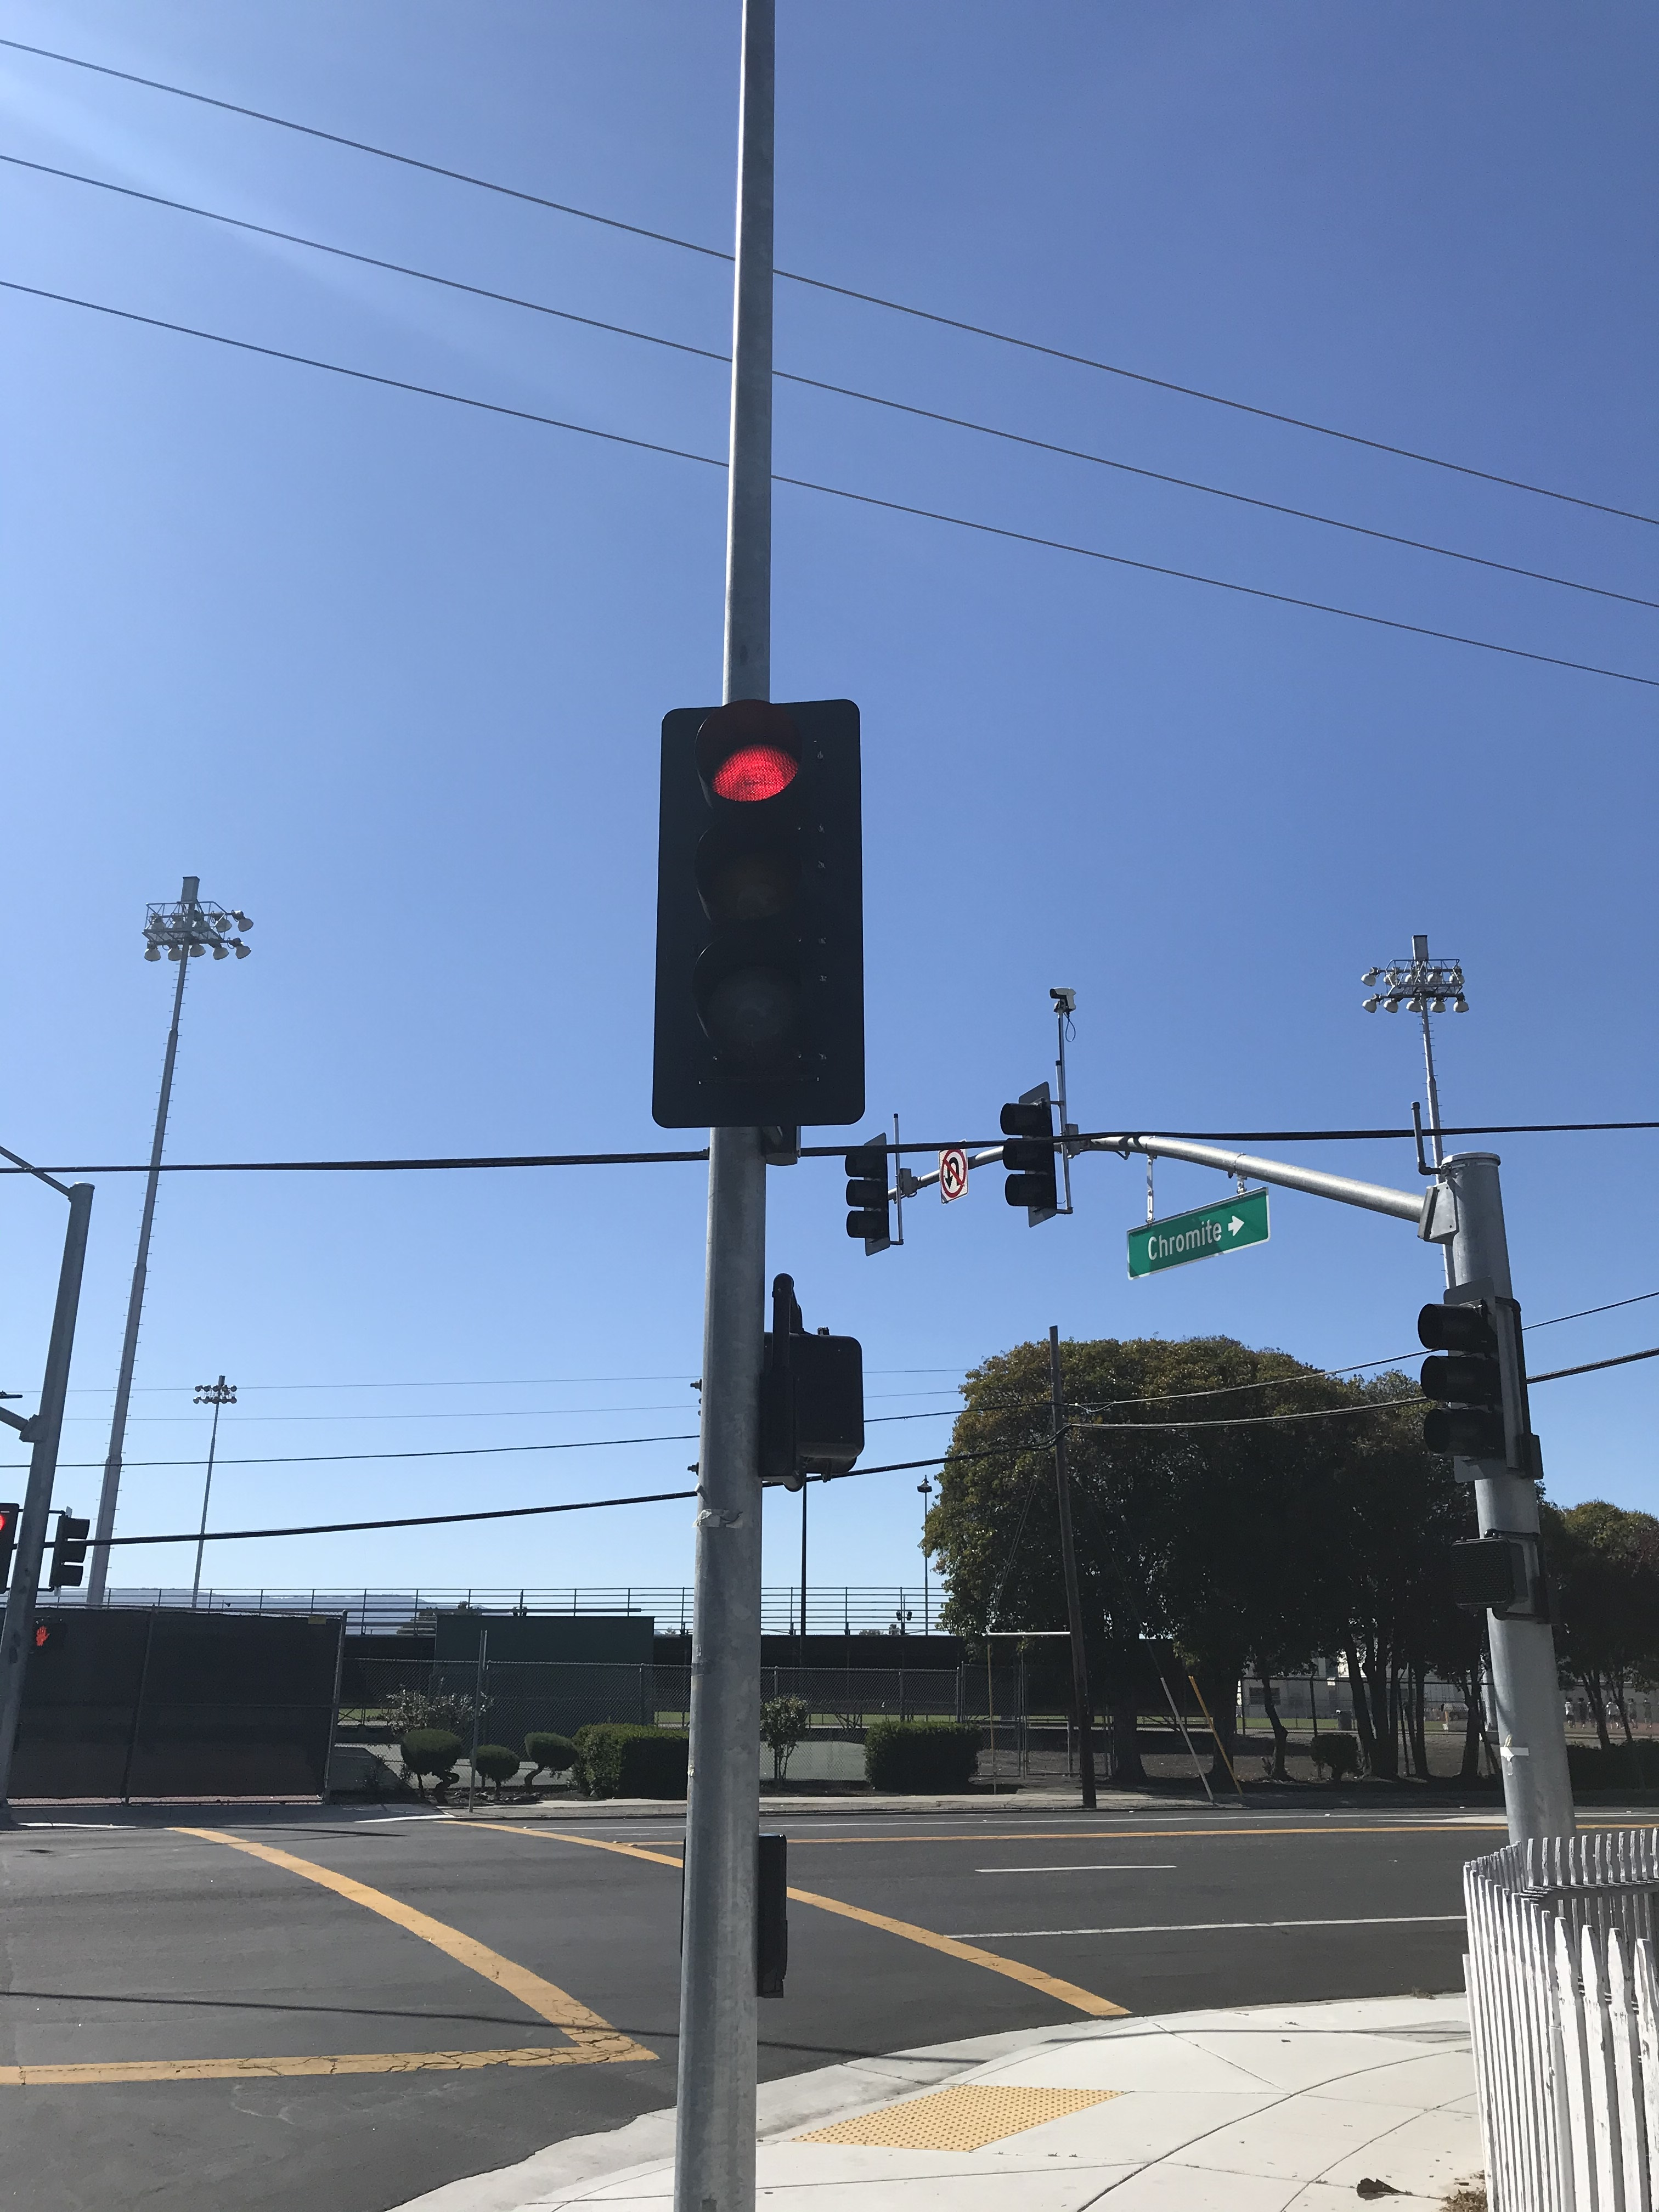red_light: (667, 711, 857, 1122)
